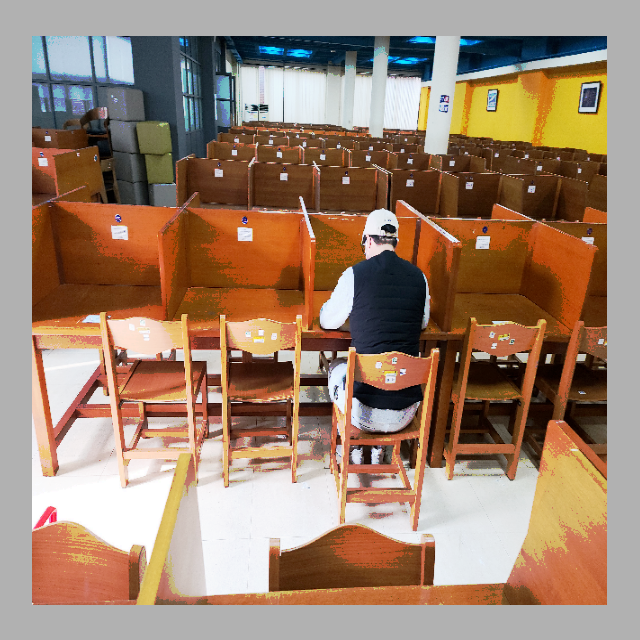empty: (172, 211, 312, 406), (33, 206, 167, 403)
full: (321, 205, 457, 426)
